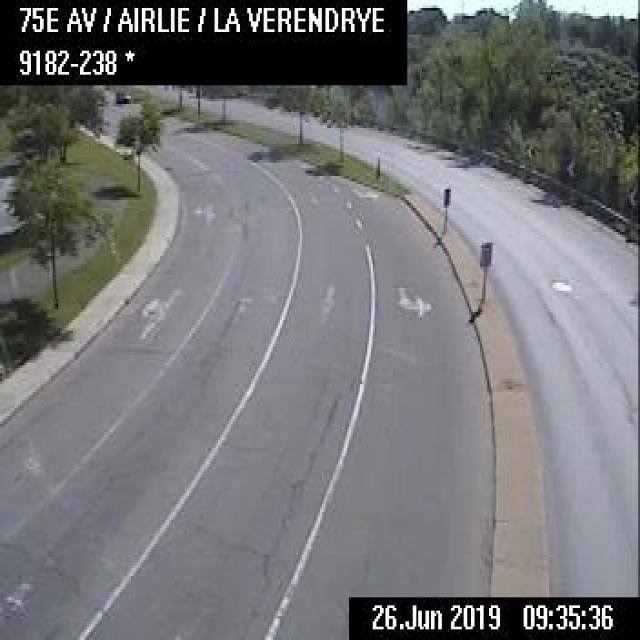vehicle: (113, 88, 132, 103)
